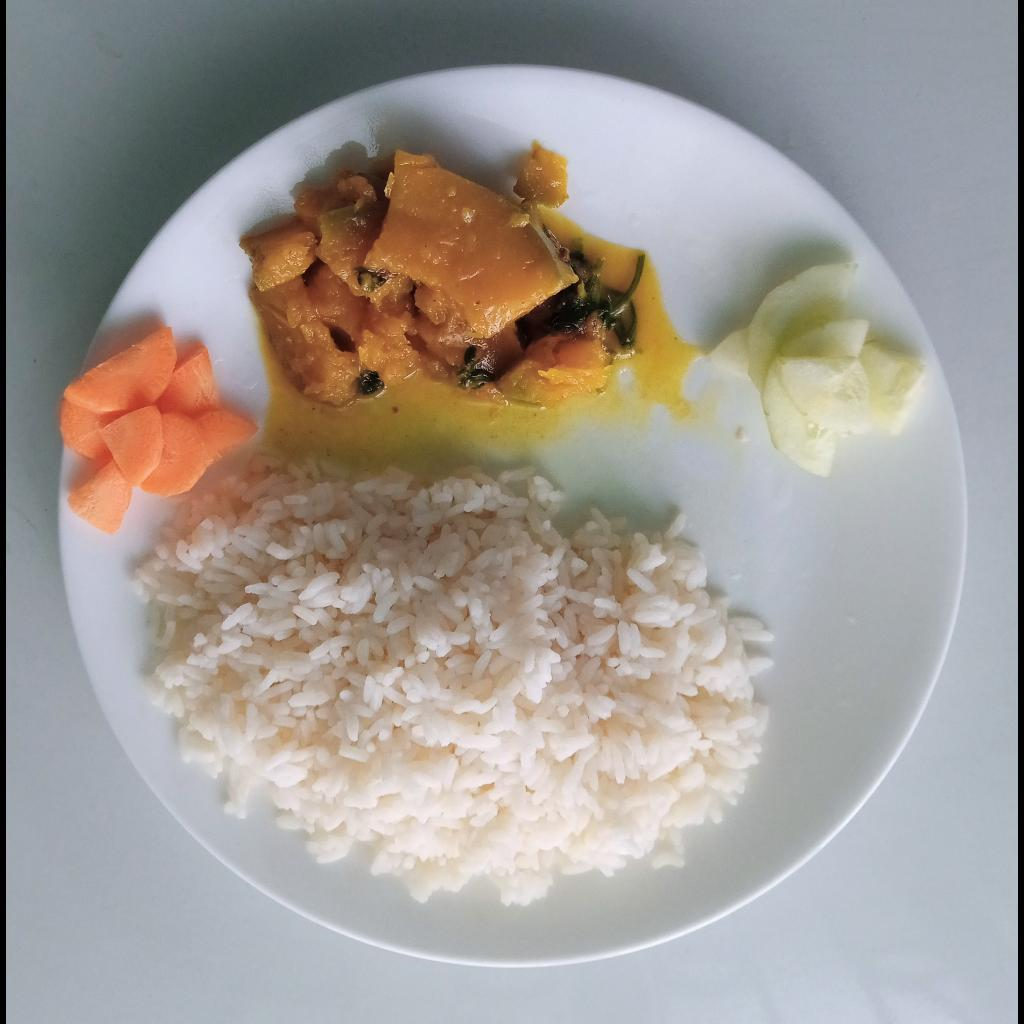carrot: (61, 322, 261, 542)
cucumber: (700, 261, 927, 476)
kumra-vaji: (238, 146, 618, 407)
rice: (124, 454, 774, 906)
